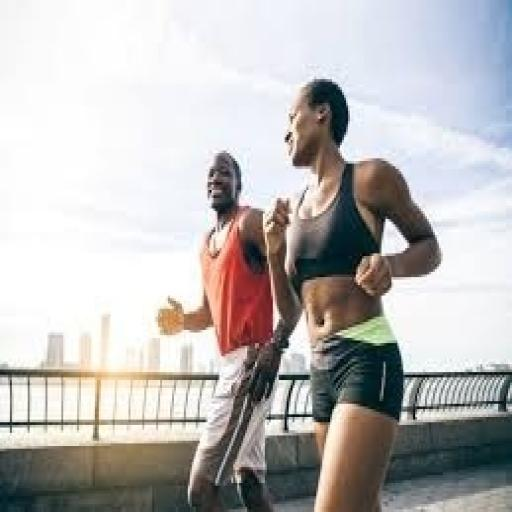running: (261, 74, 445, 509), (154, 148, 293, 509)
